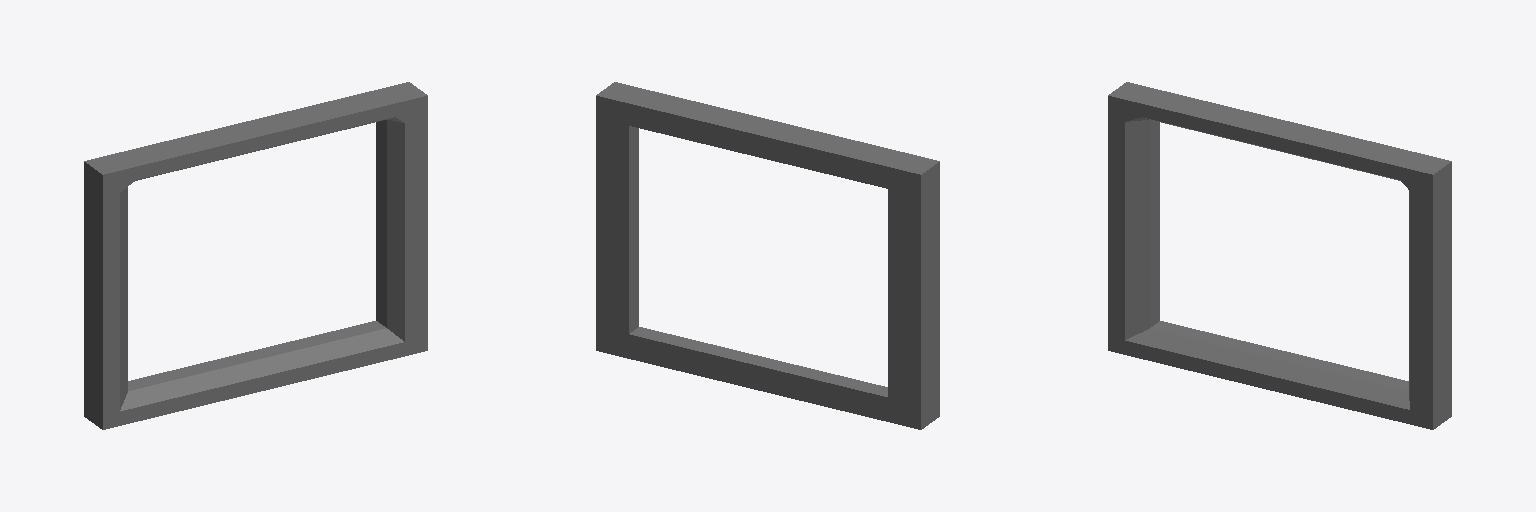
The model's file is frame.obj.
3 renders of one model, left to right at view 1: azimuth 30°, elevation 25°; view 2: azimuth 150°, elevation 25°; view 3: azimuth 330°, elevation 25°, orthographic.
Visible parts, largest first — view 1: pCube1; view 2: pCube1; view 3: pCube1.
Boxes of the visible parts, x1=… form: pCube1: x1=84, y1=82, x2=427, y2=429; pCube1: x1=596, y1=82, x2=939, y2=429; pCube1: x1=1108, y1=82, x2=1451, y2=429.
Size of the model in its own units: 154 by 116 by 15.42.